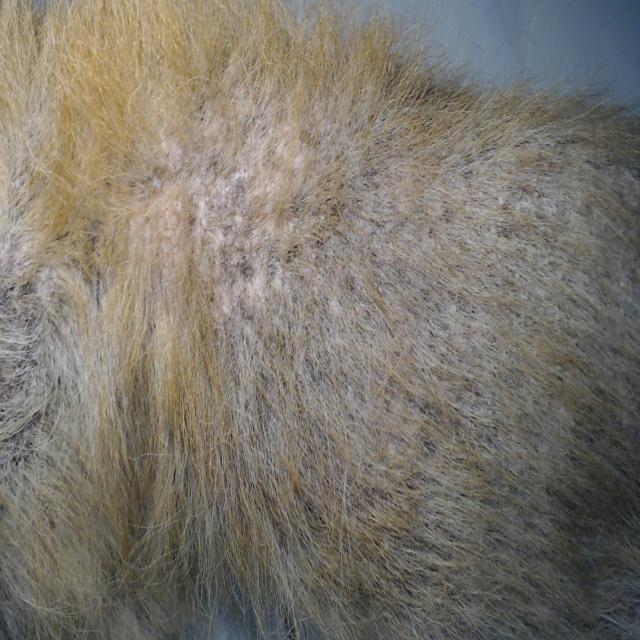demodicosis: (173, 114, 319, 333), (418, 124, 604, 282), (7, 290, 64, 435)
